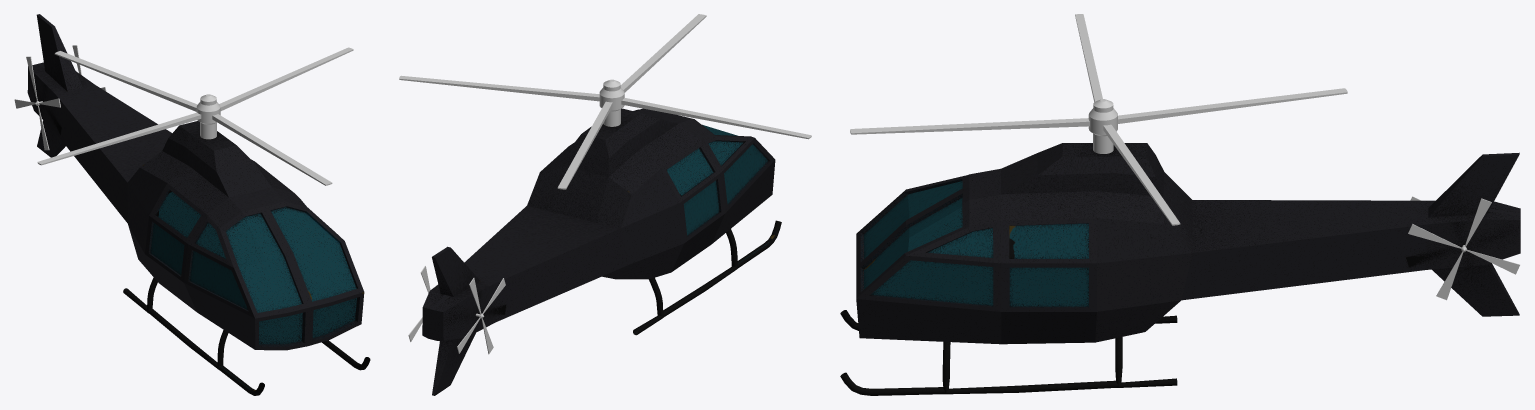
Rendered from anim_000029.obj.
3 renders of one model, left to right at view 1: azimuth 30°, elevation 25°; view 2: azimuth 150°, elevation 25°; view 3: azimuth 270°, elevation 25°, orthographic. The views are drawn at different scales.
Parts seen in each view (by area): view 1: Helicopter.007_Cylinder.008, Helicopter.001_Cylinder.001, Helicopter.004_Cylinder.005; view 2: Helicopter.007_Cylinder.008, Helicopter.001_Cylinder.001, Helicopter.004_Cylinder.005; view 3: Helicopter.007_Cylinder.008, Helicopter.001_Cylinder.001, Helicopter.003_Cylinder.004.
Boxes of the visible parts, left/top/right/bottom form: Helicopter.007_Cylinder.008: left=27, top=14, right=370, bottom=395; Helicopter.001_Cylinder.001: left=37, top=47, right=353, bottom=185; Helicopter.004_Cylinder.005: left=14, top=56, right=60, bottom=150; Helicopter.007_Cylinder.008: left=422, top=108, right=781, bottom=395; Helicopter.001_Cylinder.001: left=399, top=14, right=811, bottom=189; Helicopter.004_Cylinder.005: left=457, top=278, right=505, bottom=354; Helicopter.007_Cylinder.008: left=840, top=143, right=1520, bottom=395; Helicopter.001_Cylinder.001: left=850, top=14, right=1347, bottom=225; Helicopter.003_Cylinder.004: left=1408, top=198, right=1519, bottom=300.
Bounding box in the file's own units: 5.48 × 3.21 × 7.49.
